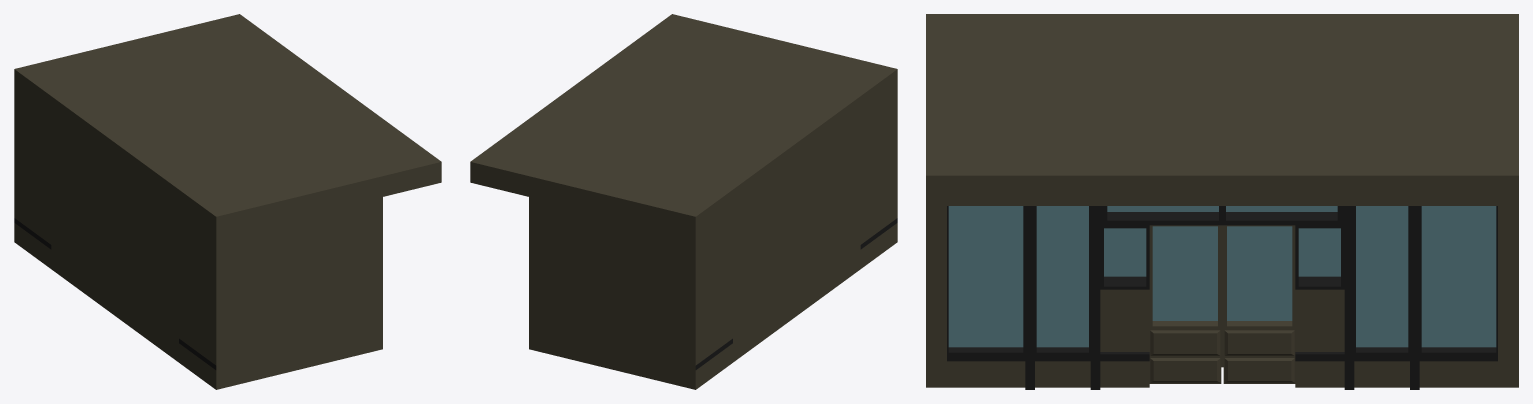
File: Store1b.fbx
3 views of the same model, side by side, from view 1: azimuth 30°, elevation 25°; view 2: azimuth 150°, elevation 25°; view 3: azimuth 270°, elevation 25° (orthographic). The views are drawn at different scales.
Visible parts, largest first — view 1: Store1b; view 2: Store1b; view 3: Store1b.
Boxes of the visible parts, bbox=[...] form: Store1b: bbox=[14, 14, 441, 389]; Store1b: bbox=[470, 14, 897, 389]; Store1b: bbox=[926, 14, 1518, 389].
Bounding box in the file's own units: 325 × 239 × 505.
